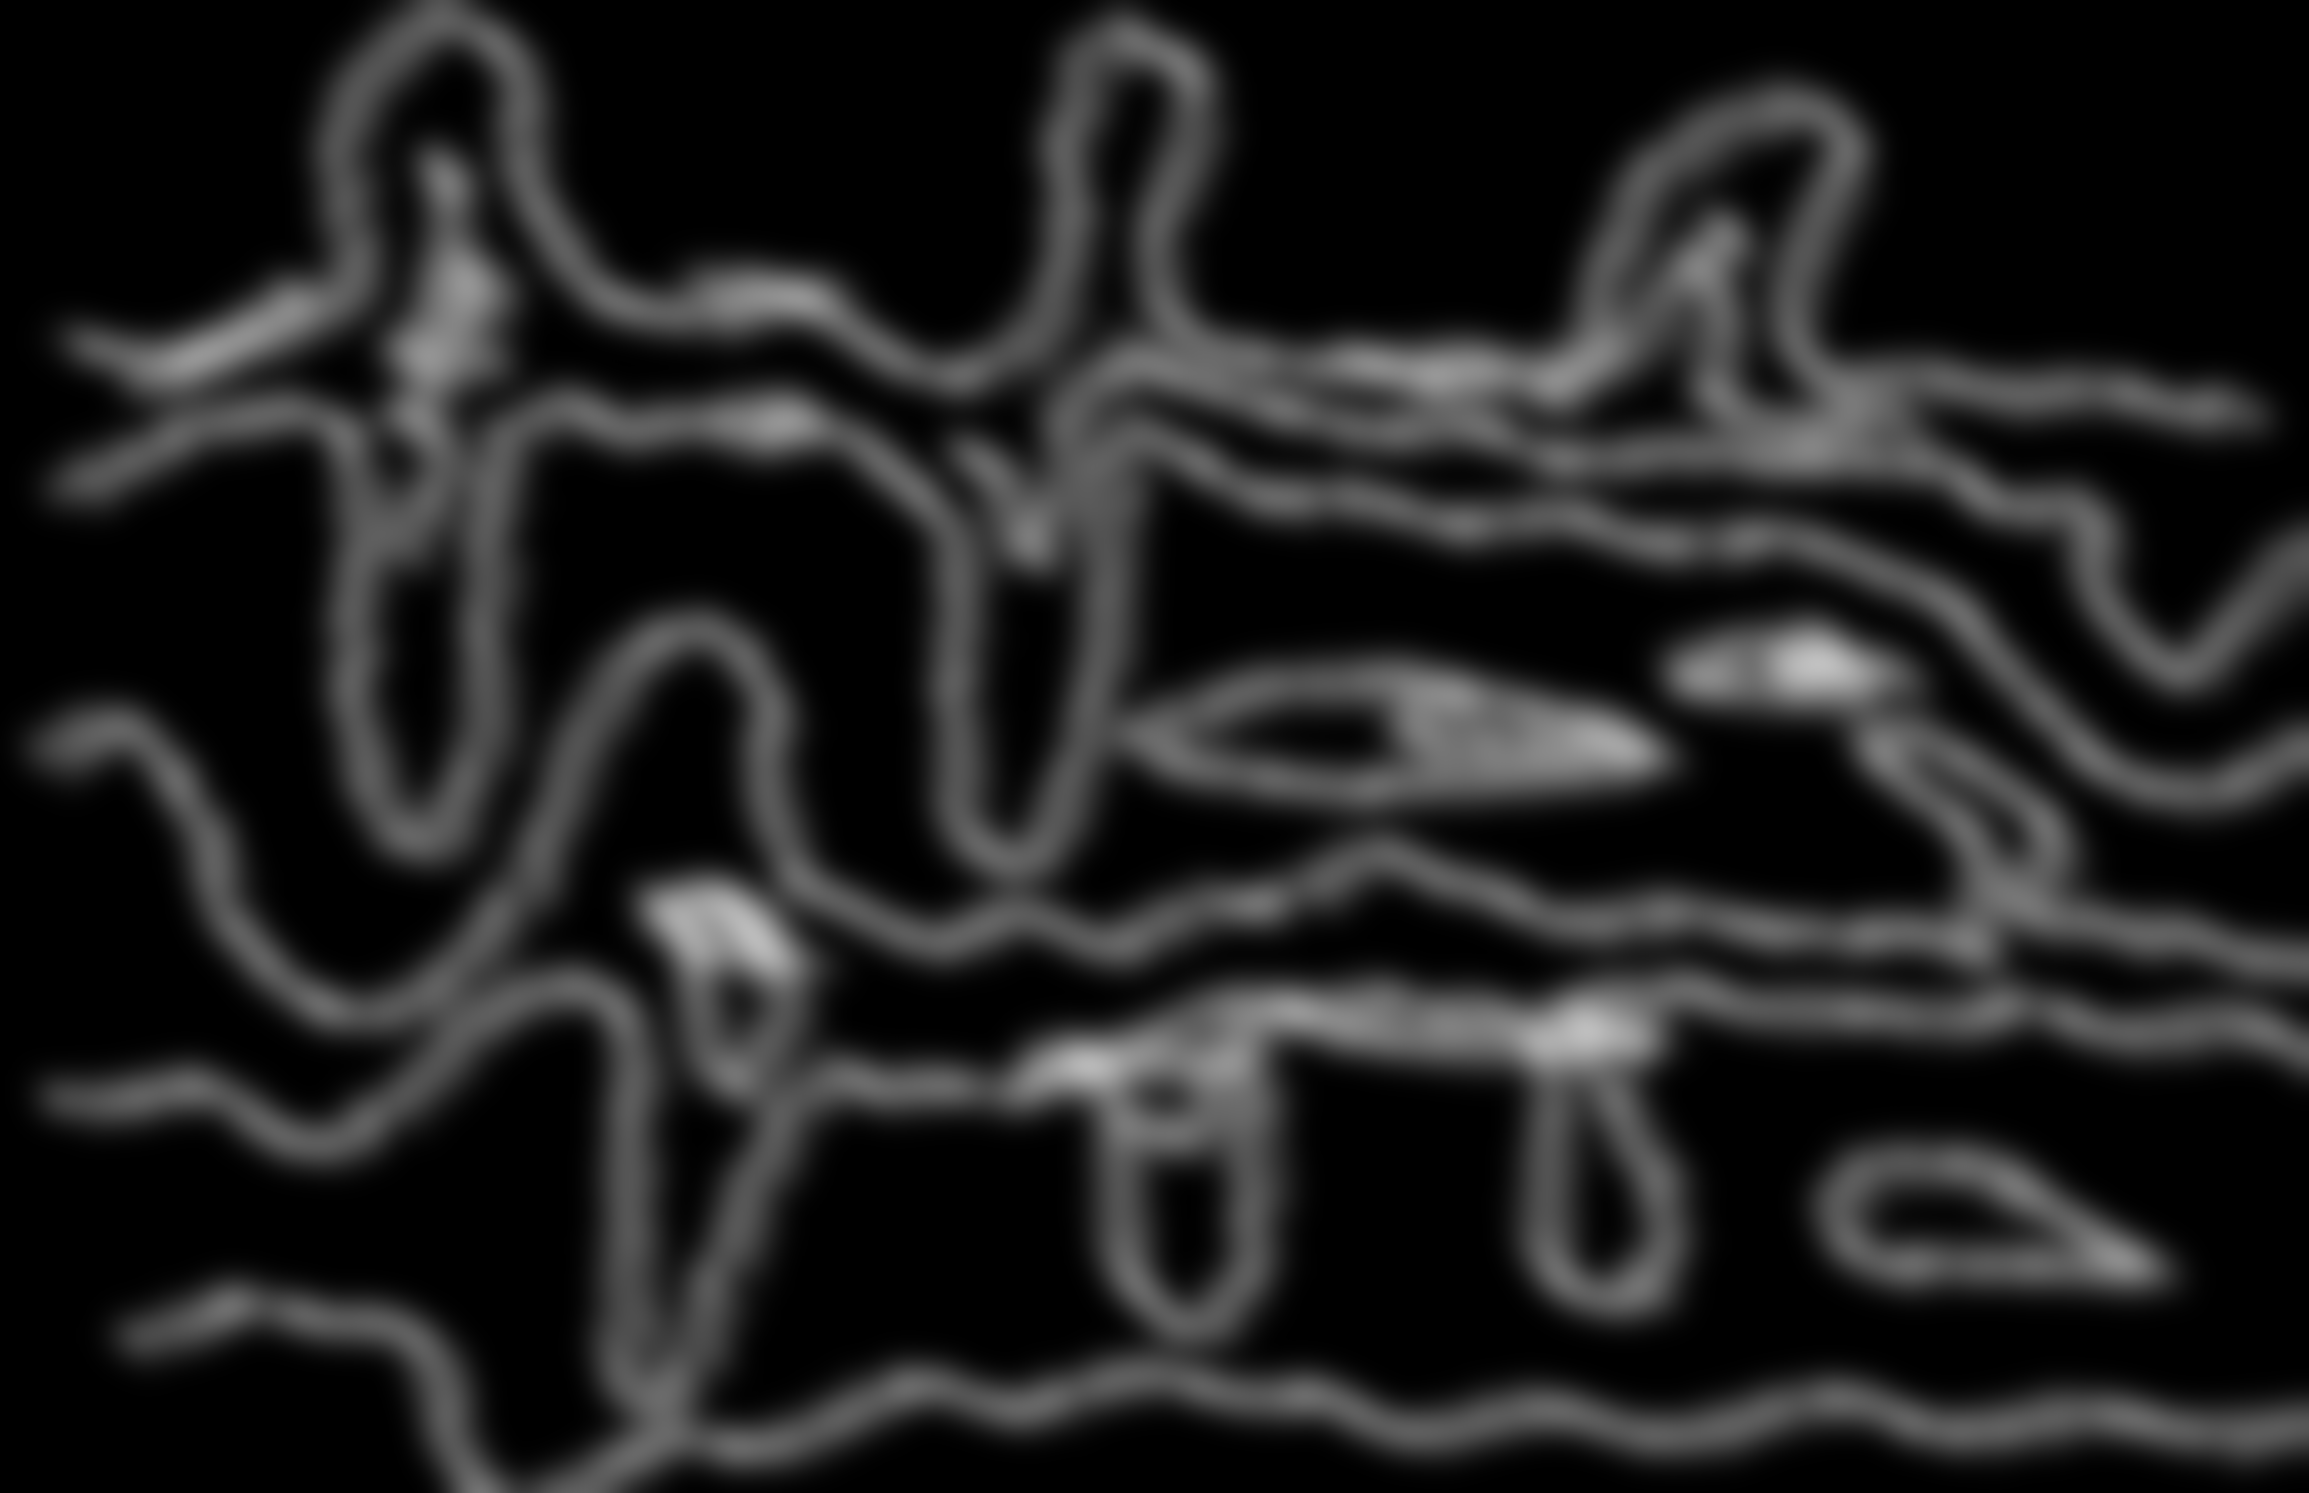turbulence: (49, 5, 2270, 1476)
